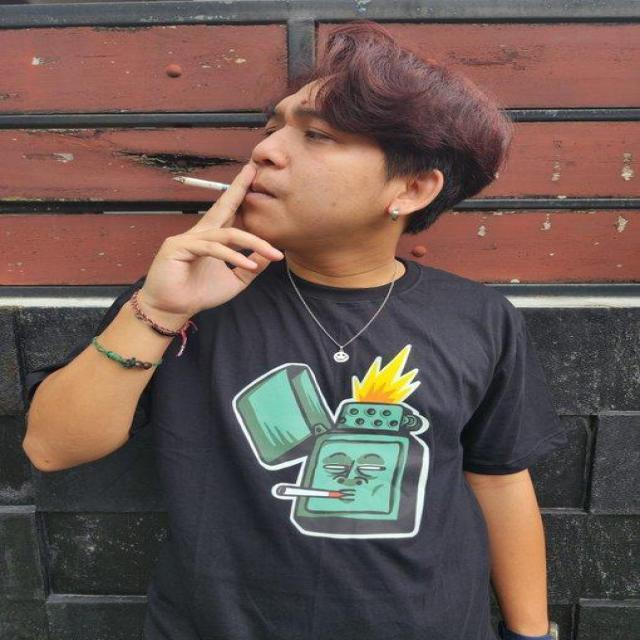rokok: (168, 166, 250, 208)
